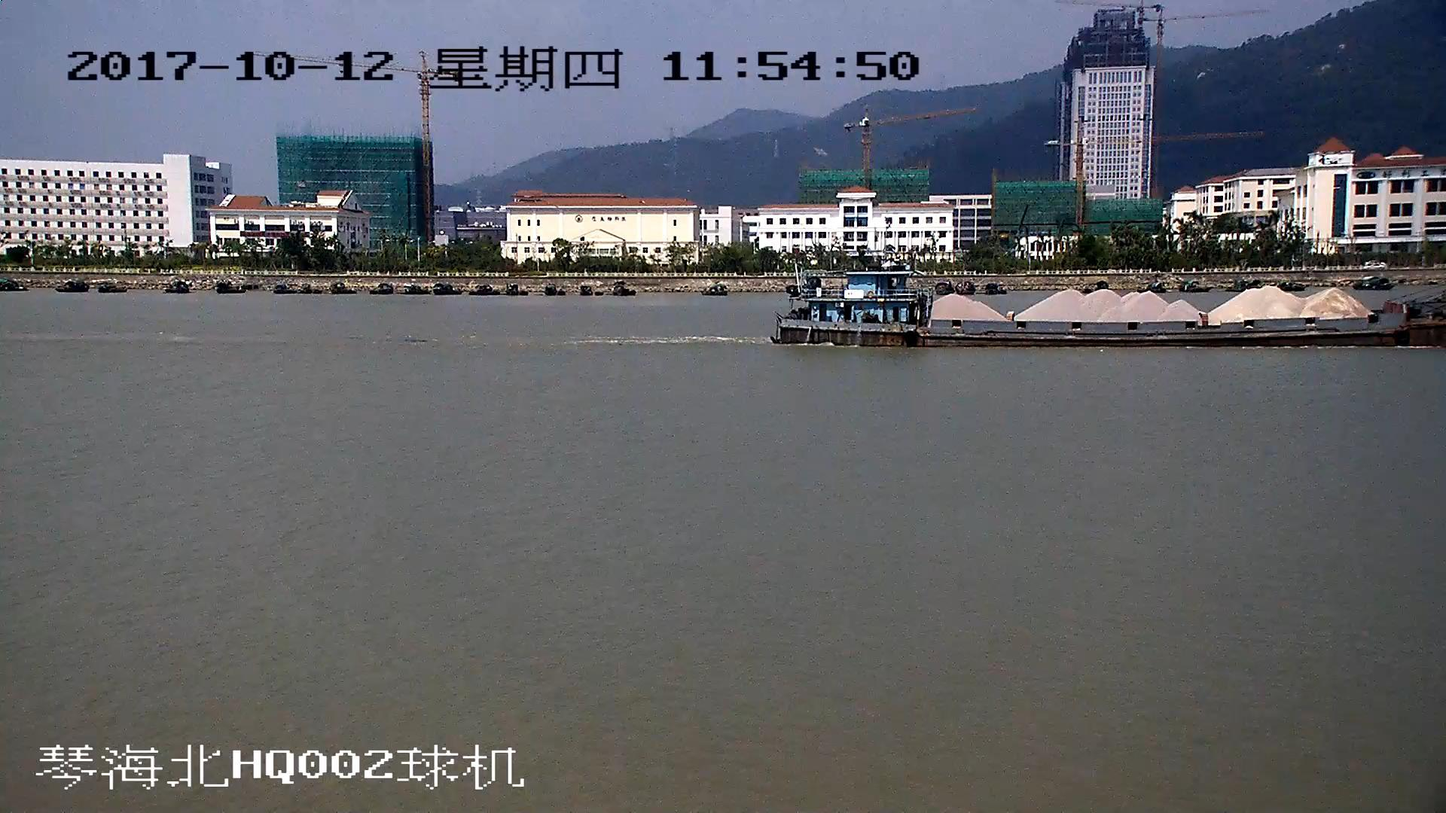ore carrier: (773, 269, 1445, 347)
